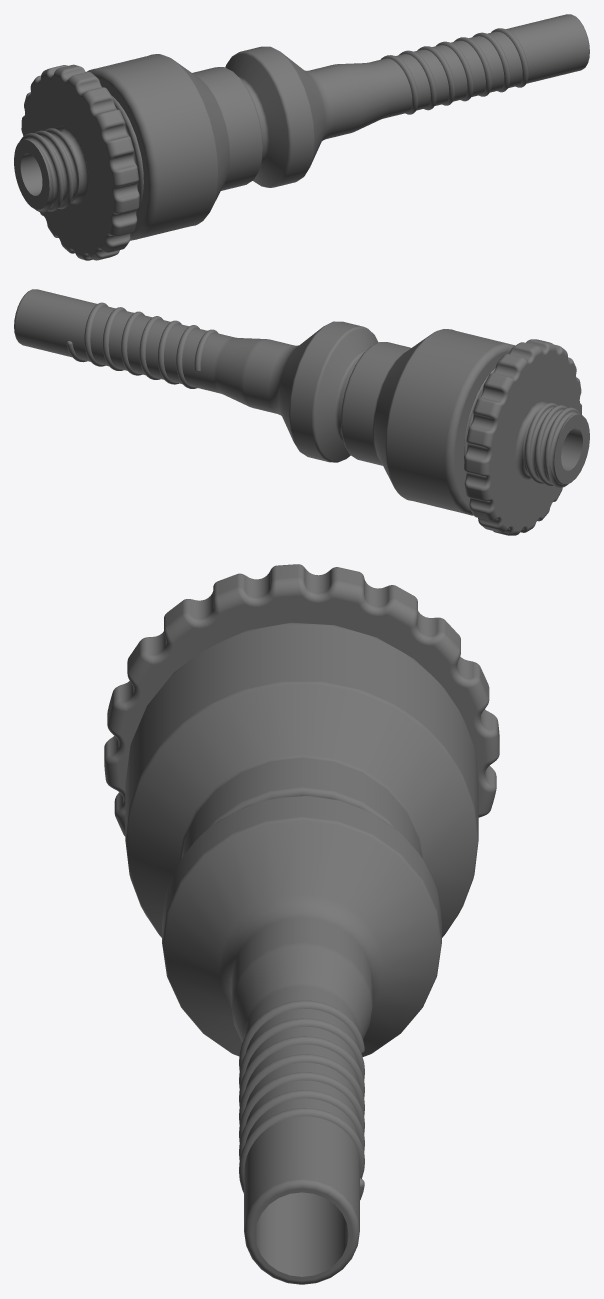
Rendered from trocar_short.obj.
3 renders of one model, top to bottom at view 1: azimuth 30°, elevation 25°; view 2: azimuth 150°, elevation 25°; view 3: azimuth 270°, elevation 25°, orthographic. The views are drawn at different scales.
Parts seen in each view (by area): view 1: Body1; view 2: Body1; view 3: Body1.
Boxes of the visible parts, x1,y1,x2,y2 form: Body1: (14,14,589,260); Body1: (14,289,589,535); Body1: (104,564,499,1284).
Size of the model in its own units: 0.089 by 0.028 by 0.028.
Materials: 1 (1 with a texture image).
